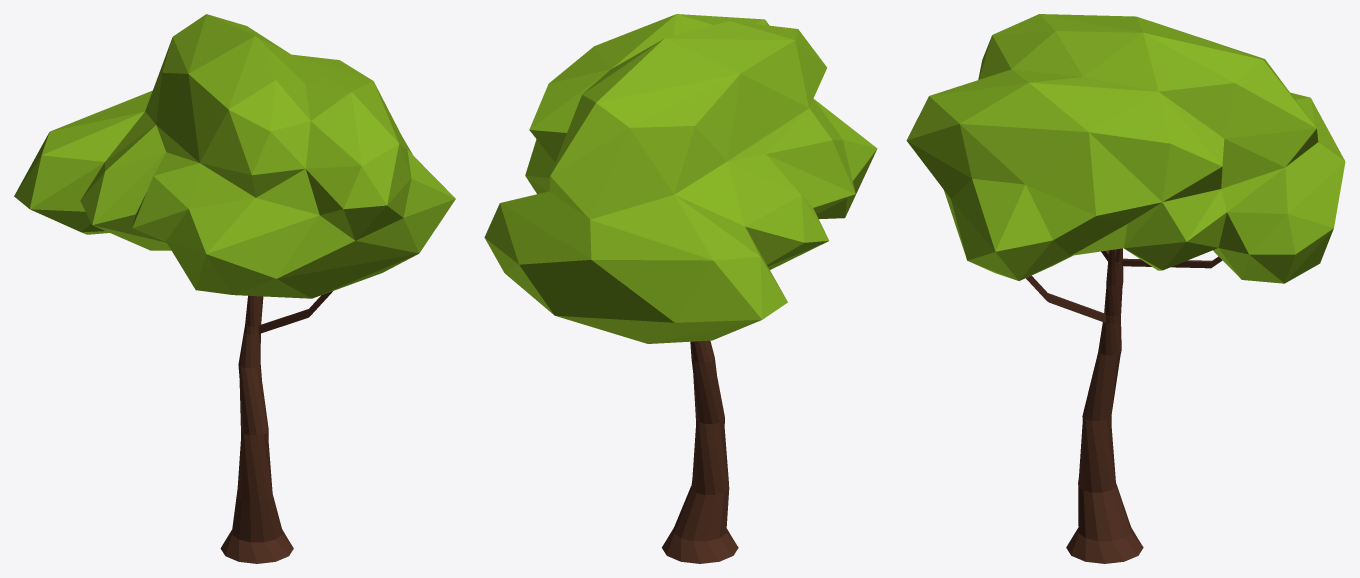
Rendered from Tree 1.fbx.
The picture shows the model from 3 angles, left to right: view 1: azimuth 30°, elevation 25°; view 2: azimuth 150°, elevation 25°; view 3: azimuth 270°, elevation 25°; orthographic projection. The views are drawn at different scales.
Visible parts, largest first — view 1: Cylinder.001; view 2: Cylinder.001; view 3: Cylinder.001.
Boxes of the visible parts, x1,y1,x2,y2 form: Cylinder.001: [14, 14, 455, 563]; Cylinder.001: [484, 14, 877, 563]; Cylinder.001: [906, 14, 1345, 563].
Size of the model in its own units: 311 by 486 by 370.
